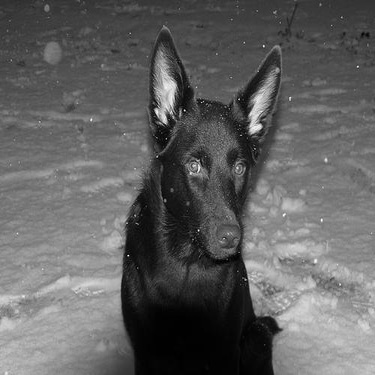dog: (107, 17, 292, 371)
